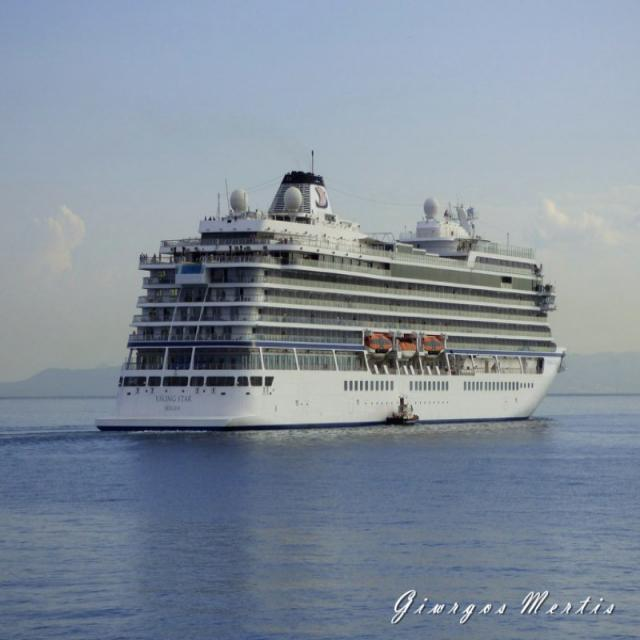cruises: (92, 166, 574, 444)
